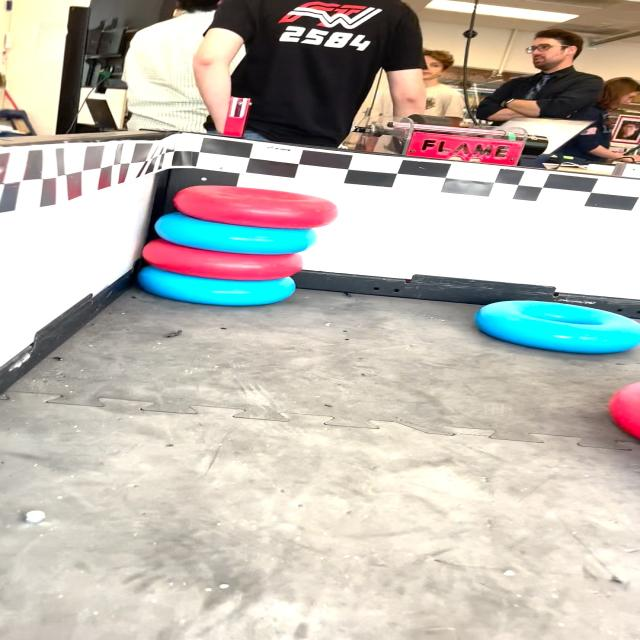Blue-Ring: (476, 300, 640, 354), (156, 212, 316, 255), (138, 266, 296, 306)
Red-Ring: (173, 185, 338, 229), (142, 239, 302, 281)
